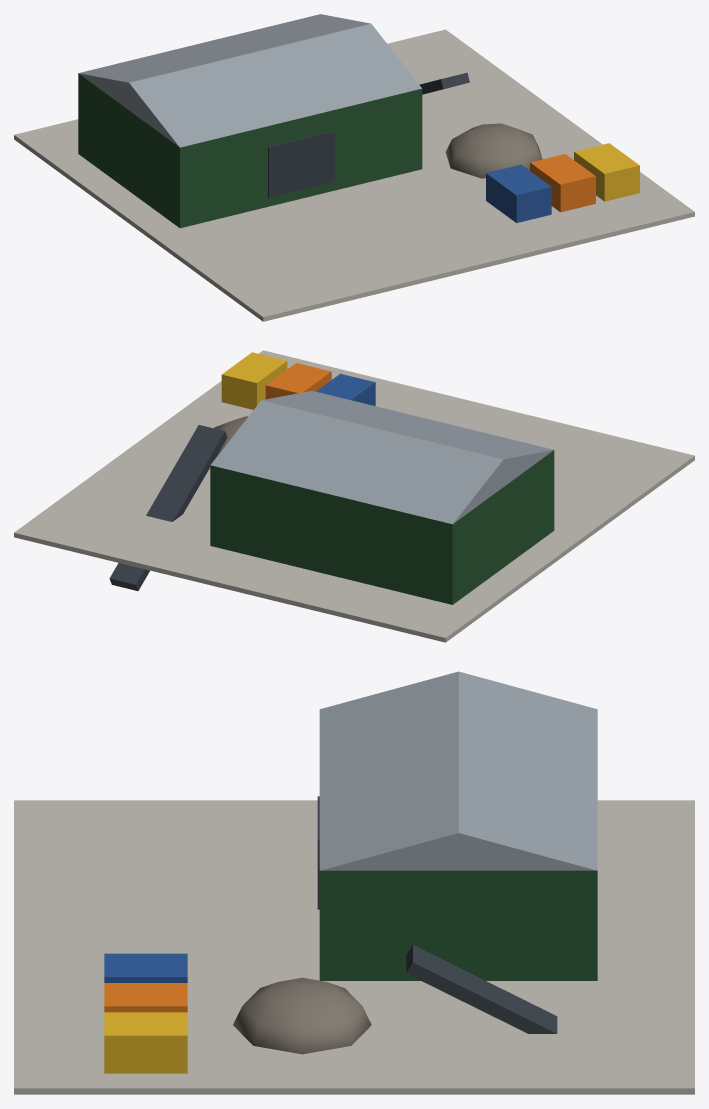
The model's file is building_kitar_semula.glb.
The picture shows the model from 3 angles, top to bottom: view 1: azimuth 30°, elevation 25°; view 2: azimuth 150°, elevation 25°; view 3: azimuth 270°, elevation 25°; orthographic projection. The views are drawn at different scales.
Visible parts, largest first — view 1: building_kitar_semula; view 2: building_kitar_semula; view 3: building_kitar_semula.
Part boxes in pixels (left/top/right/bottom): building_kitar_semula: left=14, top=14, right=694, bottom=321; building_kitar_semula: left=14, top=350, right=694, bottom=642; building_kitar_semula: left=14, top=671, right=694, bottom=1094.
Bounding box in the file's own units: 1.96 × 0.6618 × 1.96.
